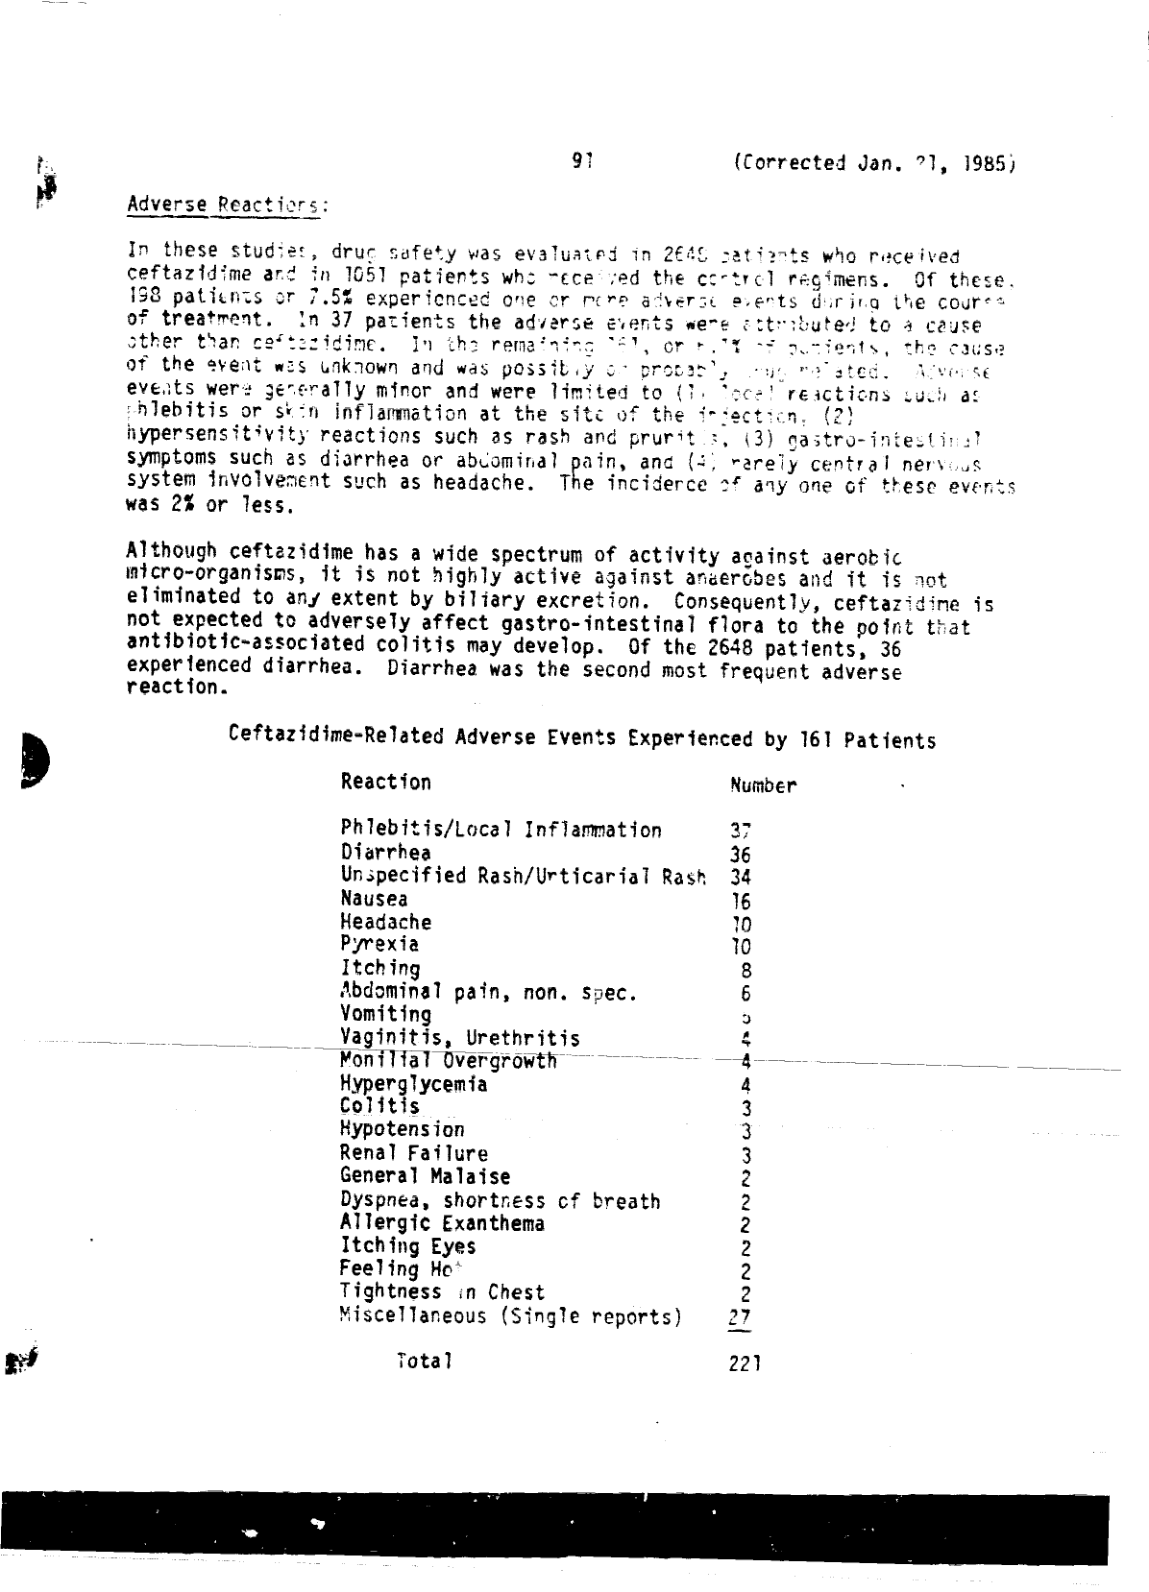nolines: (339, 769, 797, 1372)
